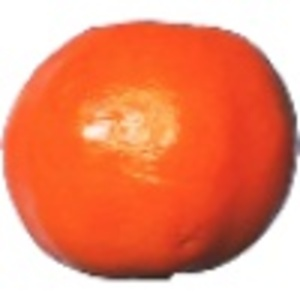tangerina: (1, 18, 300, 283)
